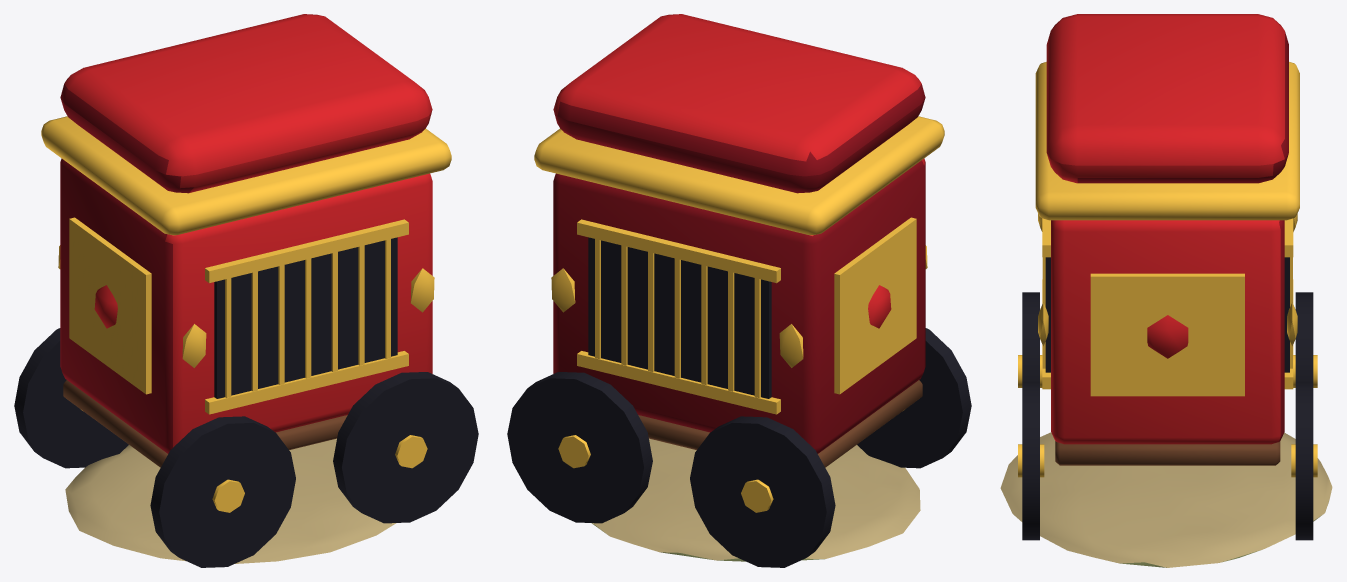
The model's file is CircusWagonA.fbx.
3 views of the same model, side by side, from view 1: azimuth 30°, elevation 25°; view 2: azimuth 150°, elevation 25°; view 3: azimuth 270°, elevation 25° (orthographic).
Parts seen in each view (by area): view 1: CircusWagonA; view 2: CircusWagonA; view 3: CircusWagonA.
Boxes of the visible parts, box(x1,y1,x2,y2) form: CircusWagonA: box(14, 14, 478, 567); CircusWagonA: box(507, 14, 971, 567); CircusWagonA: box(1000, 14, 1332, 567).
Bounding box in the file's own units: 1.73 × 2.09 × 1.51.
1 material, 1 textured.
